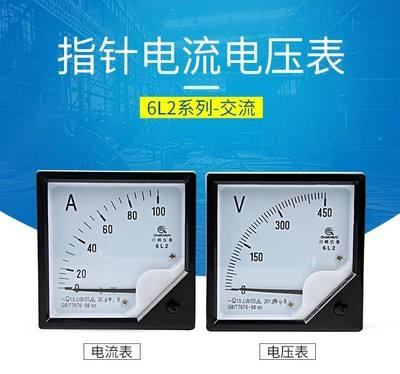pointer: (47, 181, 185, 318), (217, 183, 353, 322)
